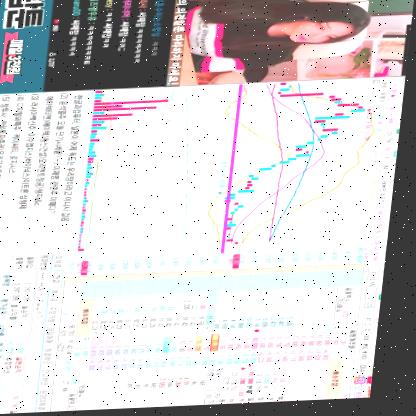streamer: (181, 0, 373, 76)
